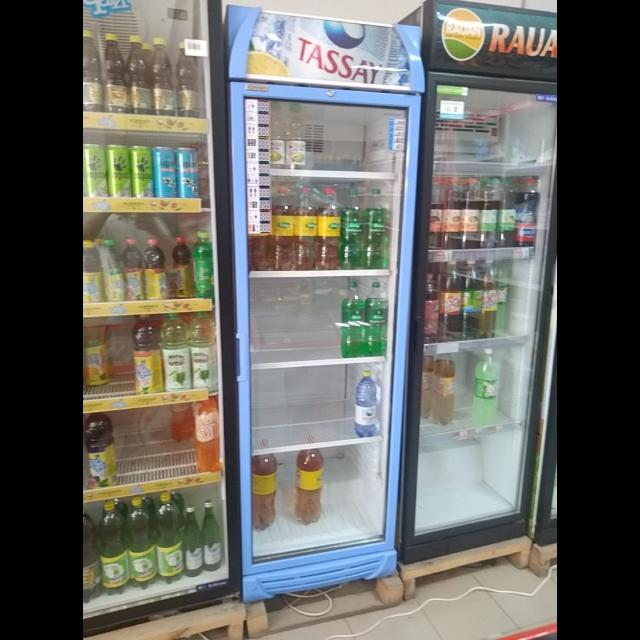Cooling-Display: (227, 3, 426, 601)
